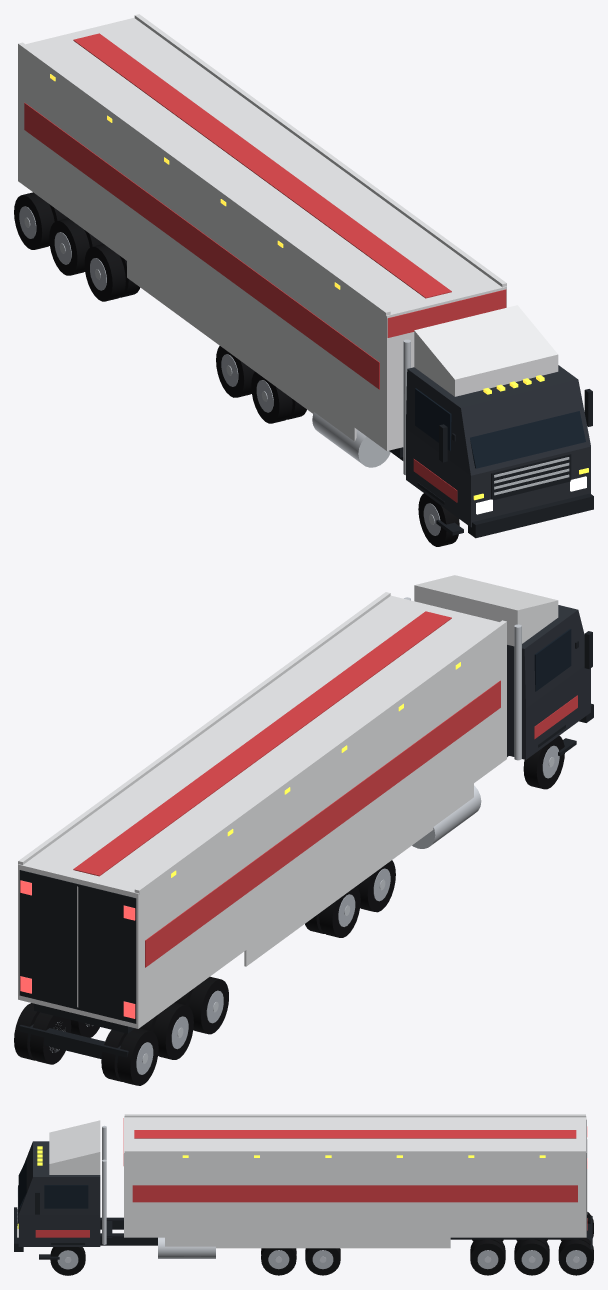
File: truck-delayed.glb
3 renders of one model, top to bottom at view 1: azimuth 30°, elevation 25°; view 2: azimuth 150°, elevation 25°; view 3: azimuth 270°, elevation 25°, orthographic. The views are drawn at different scales.
Visible parts, largest first — view 1: tractocamion; view 2: tractocamion; view 3: tractocamion.
Boxes of the visible parts, left/top/right/bottom form: tractocamion: left=14, top=14, right=593, bottom=546; tractocamion: left=14, top=575, right=593, bottom=1085; tractocamion: left=14, top=1114, right=593, bottom=1275.
Bounding box in the file's own units: 3.2 × 4.06 × 17.06.
